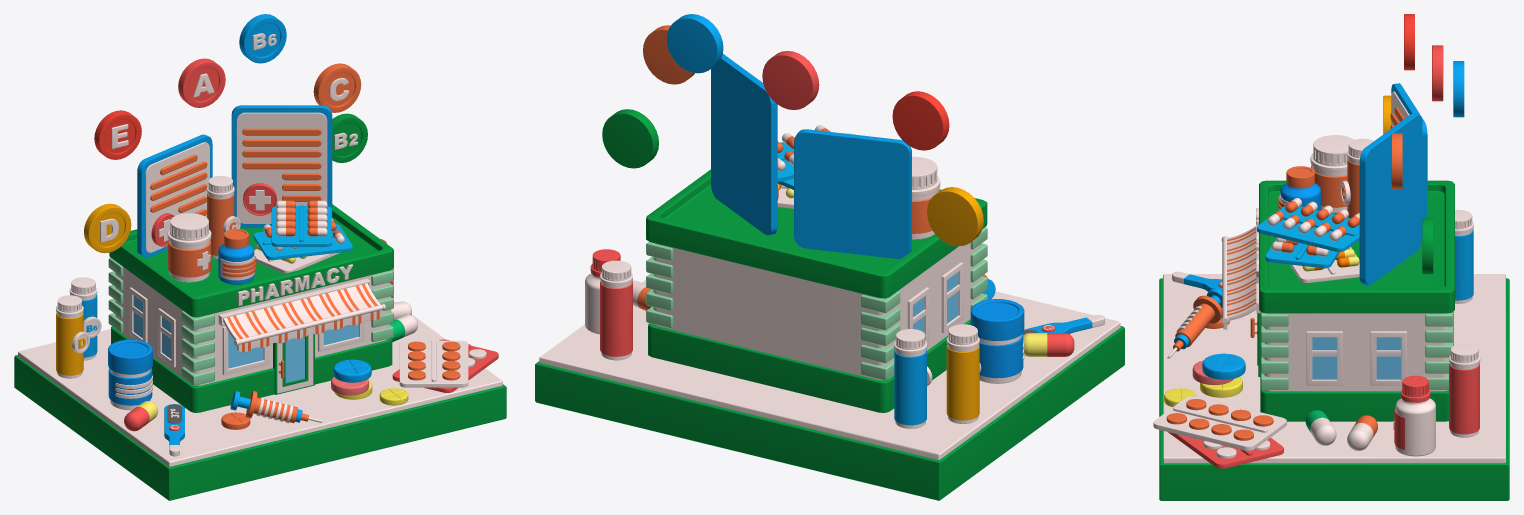
Rendered from Store_Island_15.glb.
The picture shows the model from 3 angles, left to right: view 1: azimuth 30°, elevation 25°; view 2: azimuth 150°, elevation 25°; view 3: azimuth 270°, elevation 25°; orthographic projection. The views are drawn at different scales.
Parts seen in each view (by area): view 1: Store_15_Pharmacy_1, Store_15_Base_1, Store_15_Prescription_for_medicine_1, Store_15_Prescription_for_medicine_2, Store_15_Pill_Pack_1, Store_15_Bottle_of_Medicine_4, Store_15_Bottle_of_Medicine_2, Store_15_Pill_Pack_5, Store_15_Bottle_of_Vitamin_D_1, Store_15_Vitamin_E_1, Store_15_Vitamin_B6_1, Store_15_Vitamin_A_1 (+13 smaller); view 2: Store_15_Pharmacy_1, Store_15_Base_1, Store_15_Prescription_for_medicine_2, Store_15_Prescription_for_medicine_1, Store_15_Bottle_of_Medicine_4, Store_15_Bottle_of_Vitamin_B6_1, Store_15_Bottle_of_Vitamin_D_1, Store_15_Bottle_of_Medicine_5, Store_15_Vitamin_B2_1, Store_15_Vitamin_B6_1, Store_15_Vitamin_E_1, Store_15_Vitamin_D_1 (+7 smaller); view 3: Store_15_Base_1, Store_15_Pharmacy_1, Store_15_Prescription_for_medicine_1, Store_15_Pill_Pack_1, Store_15_Pill_Pack_5, Store_15_Bottle_of_Medicine_3, Store_15_Bottle_of_Medicine_5, Store_15_Bottle_of_Medicine_2, Store_15_Pill_Pack_4, Store_15_Bottle_of_Vitamin_B6_1, Store_15_Medicine_Syringe_1, Store_15_Pill_Pack_2 (+15 smaller).
Part boxes in pixels (box(x1,y1,x2,y2)): Store_15_Pharmacy_1: box(108, 204, 393, 412); Store_15_Base_1: box(14, 301, 506, 500); Store_15_Prescription_for_medicine_1: box(231, 105, 332, 227); Store_15_Prescription_for_medicine_2: box(137, 134, 212, 258); Store_15_Pill_Pack_1: box(399, 339, 468, 387); Store_15_Bottle_of_Medicine_4: box(108, 339, 152, 410); Store_15_Bottle_of_Medicine_2: box(167, 213, 211, 282); Store_15_Pill_Pack_5: box(271, 200, 331, 247); Store_15_Bottle_of_Vitamin_D_1: box(56, 295, 89, 378); Store_15_Vitamin_E_1: box(94, 110, 141, 159); Store_15_Vitamin_B6_1: box(239, 14, 286, 63); Store_15_Vitamin_A_1: box(178, 58, 225, 107); Store_15_Pharmacy_1: box(646, 169, 987, 412); Store_15_Base_1: box(535, 279, 1124, 500); Store_15_Prescription_for_medicine_2: box(794, 129, 911, 259); Store_15_Prescription_for_medicine_1: box(711, 54, 778, 235); Store_15_Bottle_of_Medicine_4: box(970, 299, 1024, 383); Store_15_Bottle_of_Vitamin_B6_1: box(894, 329, 932, 428); Store_15_Bottle_of_Vitamin_D_1: box(946, 324, 981, 424); Store_15_Bottle_of_Medicine_5: box(600, 260, 632, 360); Store_15_Vitamin_B2_1: box(602, 109, 658, 168); Store_15_Vitamin_B6_1: box(666, 14, 723, 73); Store_15_Vitamin_E_1: box(892, 91, 949, 150); Store_15_Vitamin_D_1: box(927, 187, 983, 246); Store_15_Base_1: box(1159, 274, 1509, 500); Store_15_Pharmacy_1: box(1221, 180, 1454, 421); Store_15_Prescription_for_medicine_1: box(1359, 113, 1422, 285); Store_15_Pill_Pack_1: box(1153, 396, 1286, 450); Store_15_Pill_Pack_5: box(1257, 198, 1359, 251); Store_15_Bottle_of_Medicine_3: box(1393, 375, 1435, 456); Store_15_Bottle_of_Medicine_5: box(1449, 343, 1480, 437); Store_15_Bottle_of_Medicine_2: box(1310, 135, 1353, 212); Store_15_Pill_Pack_4: box(1168, 432, 1283, 468); Store_15_Bottle_of_Vitamin_B6_1: box(1455, 209, 1473, 303); Store_15_Medicine_Syringe_1: box(1167, 288, 1222, 358); Store_15_Pill_Pack_2: box(1265, 237, 1339, 268).
Bounding box in the file's own units: 15.88 × 14.18 × 12.16.
33 materials, 33 textured.
